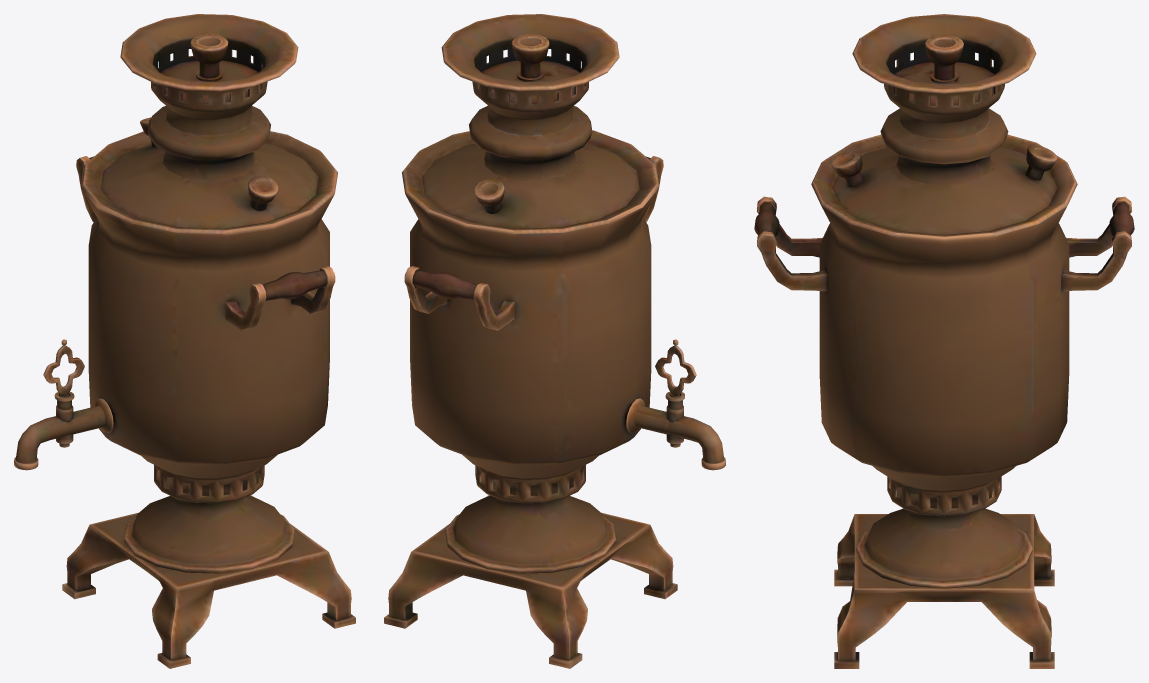
Rendered from obj_samovar.glb.
3 views of the same model, side by side, from view 1: azimuth 30°, elevation 25°; view 2: azimuth 150°, elevation 25°; view 3: azimuth 270°, elevation 25° (orthographic). The views are drawn at different scales.
Visible parts, largest first — view 1: Object_2; view 2: Object_2; view 3: Object_2.
Boxes of the visible parts, x1,y1,x2,y2 form: Object_2: (14,14,355,668); Object_2: (384,14,725,668); Object_2: (754,14,1134,668).
Size of the model in its own units: 0.2834 by 0.5 by 0.2971.
Materials: 1 (1 with a texture image).
